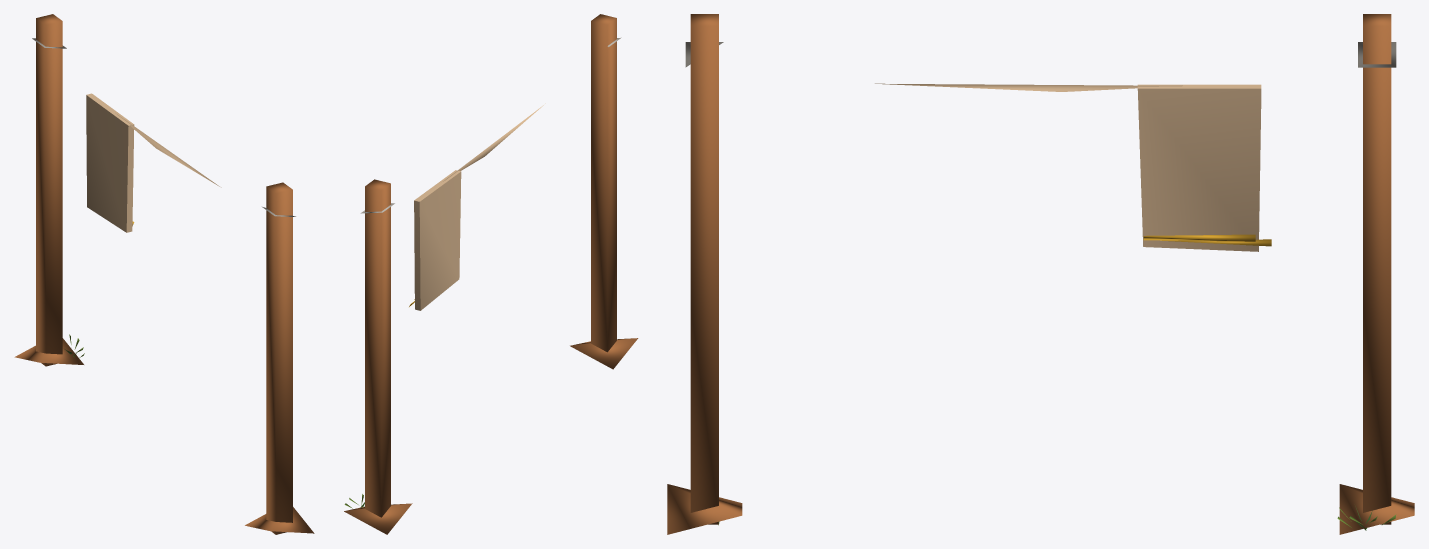
The model's file is prop.laundry-line.lod2.glb.
3 renders of one model, left to right at view 1: azimuth 30°, elevation 25°; view 2: azimuth 150°, elevation 25°; view 3: azimuth 270°, elevation 25°, orthographic. The views are drawn at different scales.
Size of the model in its own units: 0.3266 by 2.05 by 2.78.
